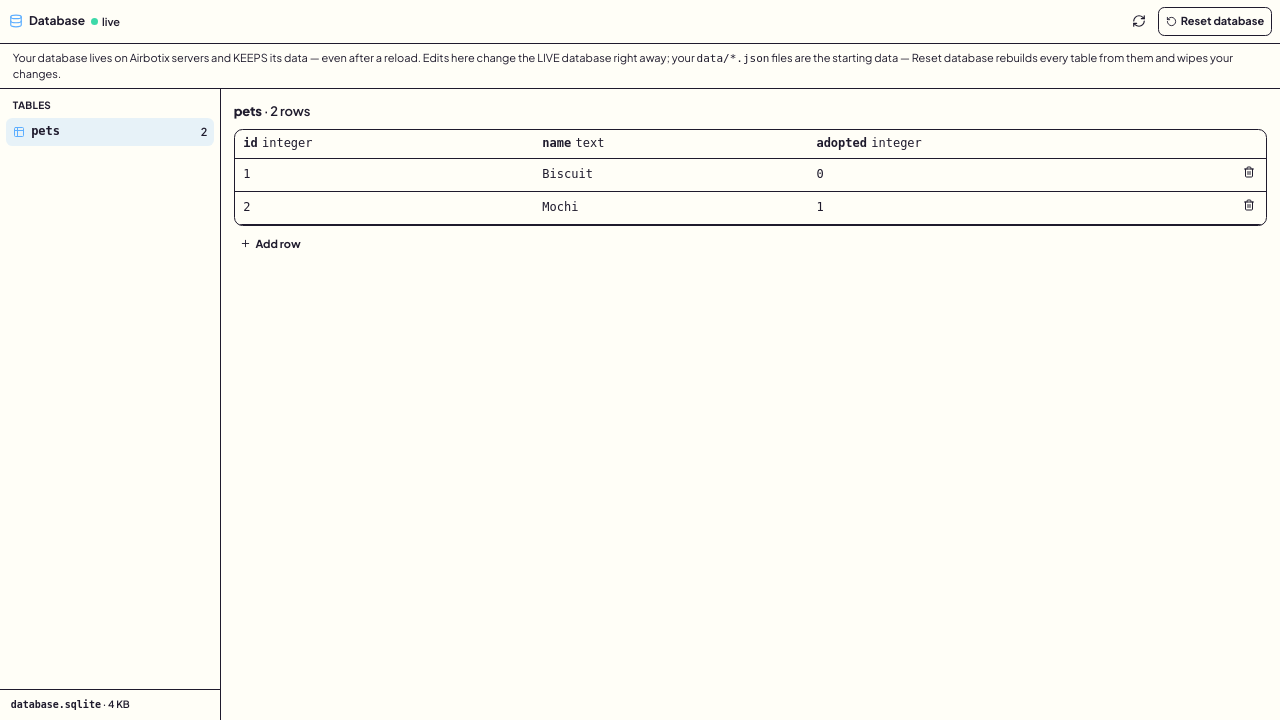
Test: DbTable — inline cell edit (rowid-keyed) › a failed save surfaces the backend's kid-readable message inline and reverts the value
Click the button titled "Click to edit" at (671, 175), box [542,164,799,187]
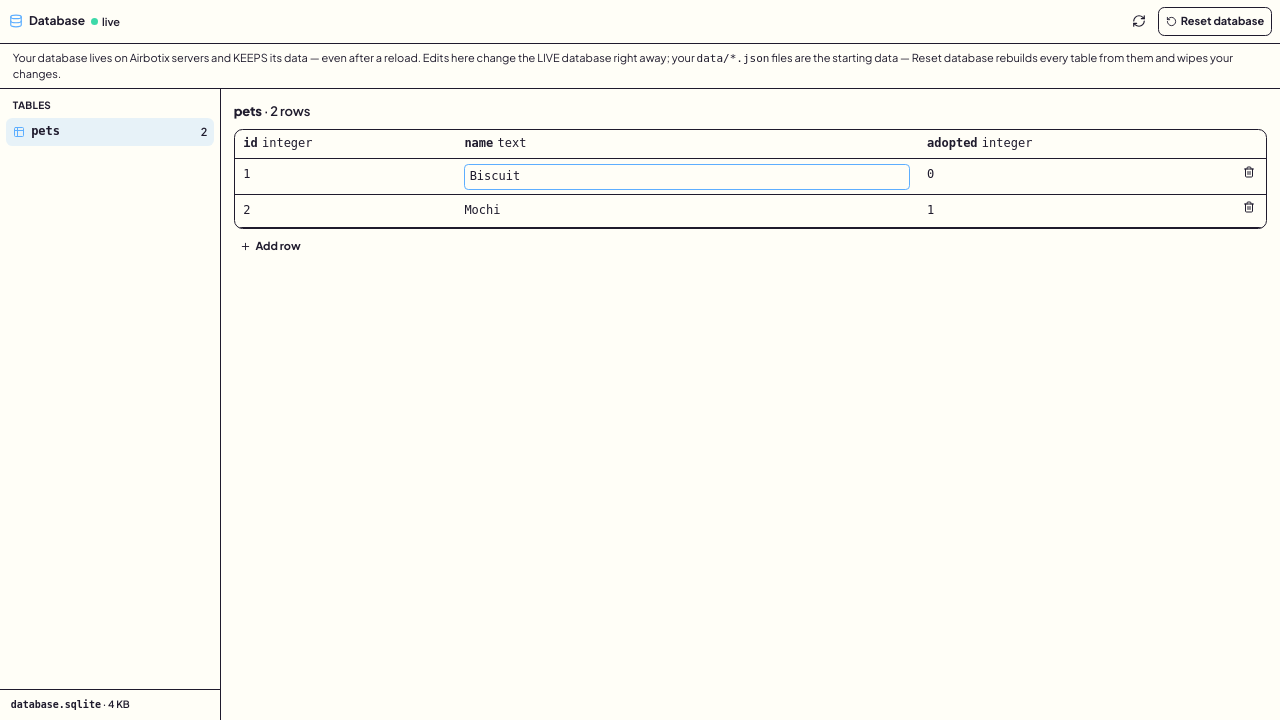
Replace the text in the field with "Rex" at (687, 177), box [464,164,910,190]
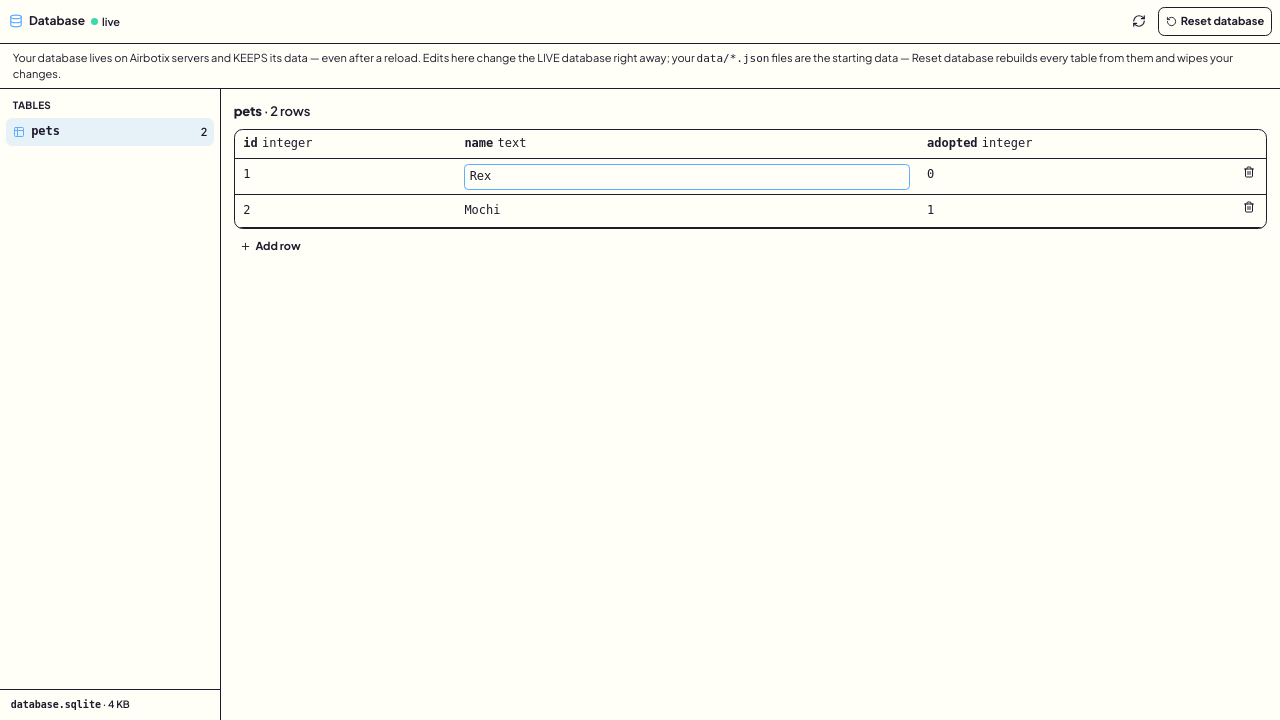
Press Enter in the field, box [464,164,910,190]
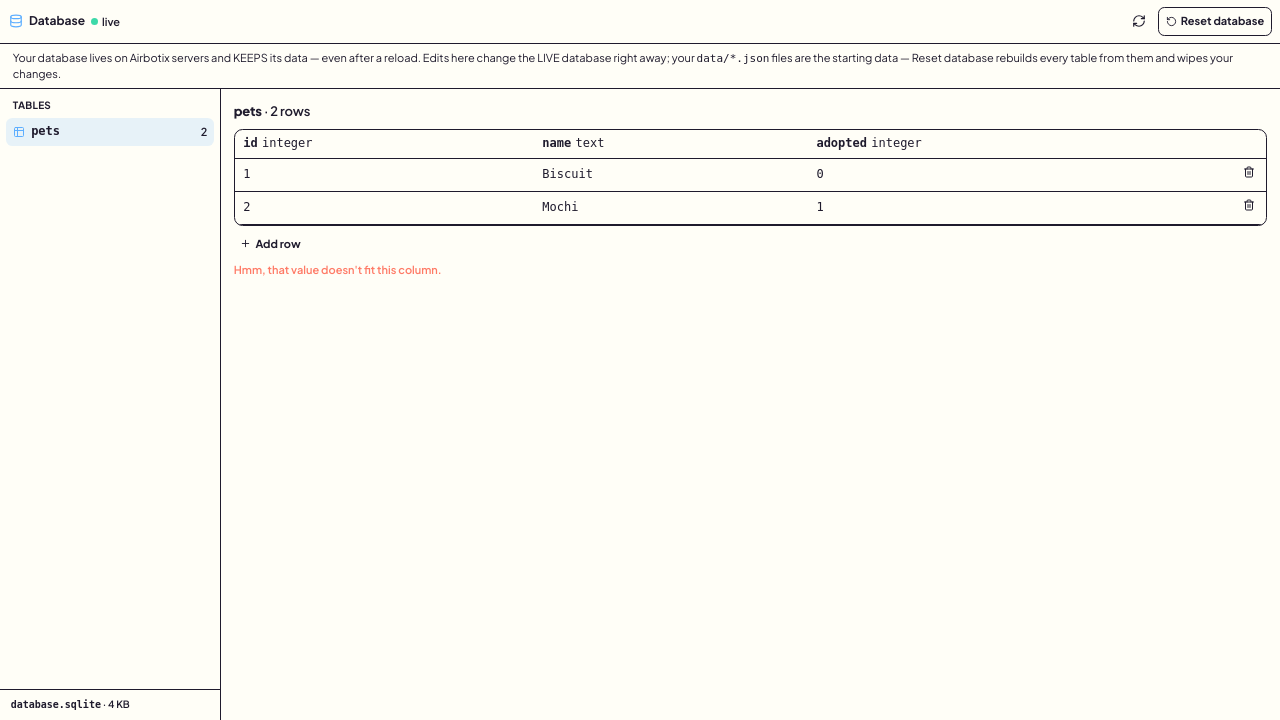
Now the text "Hmm, that value doesn't fit this column." is shown, box [234,263,442,276]
Now the field is gone
Now the cell with test id "db-cell-pets-0-name" reads "Biscuit", box [542,164,799,187]
